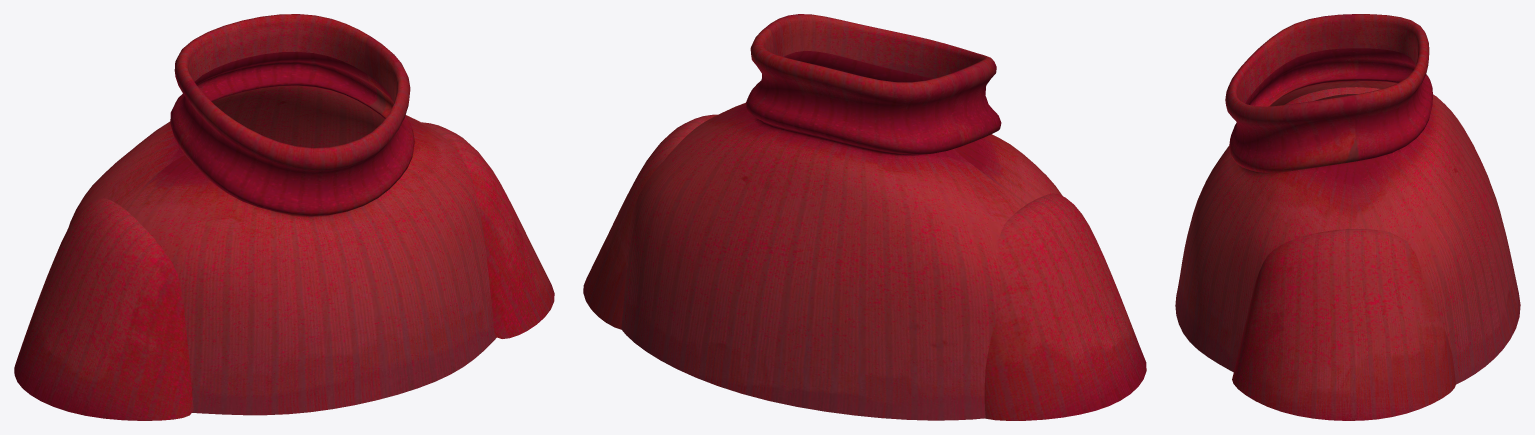
File: clothe3.glb
3 renders of one model, left to right at view 1: azimuth 30°, elevation 25°; view 2: azimuth 150°, elevation 25°; view 3: azimuth 270°, elevation 25°, orthographic. The views are drawn at different scales.
Visible parts, largest first — view 1: clothes.003; view 2: clothes.003; view 3: clothes.003.
Part boxes in pixels (bbox=[...]): clothes.003: bbox=[14, 14, 554, 420]; clothes.003: bbox=[583, 14, 1146, 420]; clothes.003: bbox=[1175, 14, 1520, 420].
Size of the model in its own units: 1.83 by 0.9711 by 1.16.
1 material, 1 textured.
